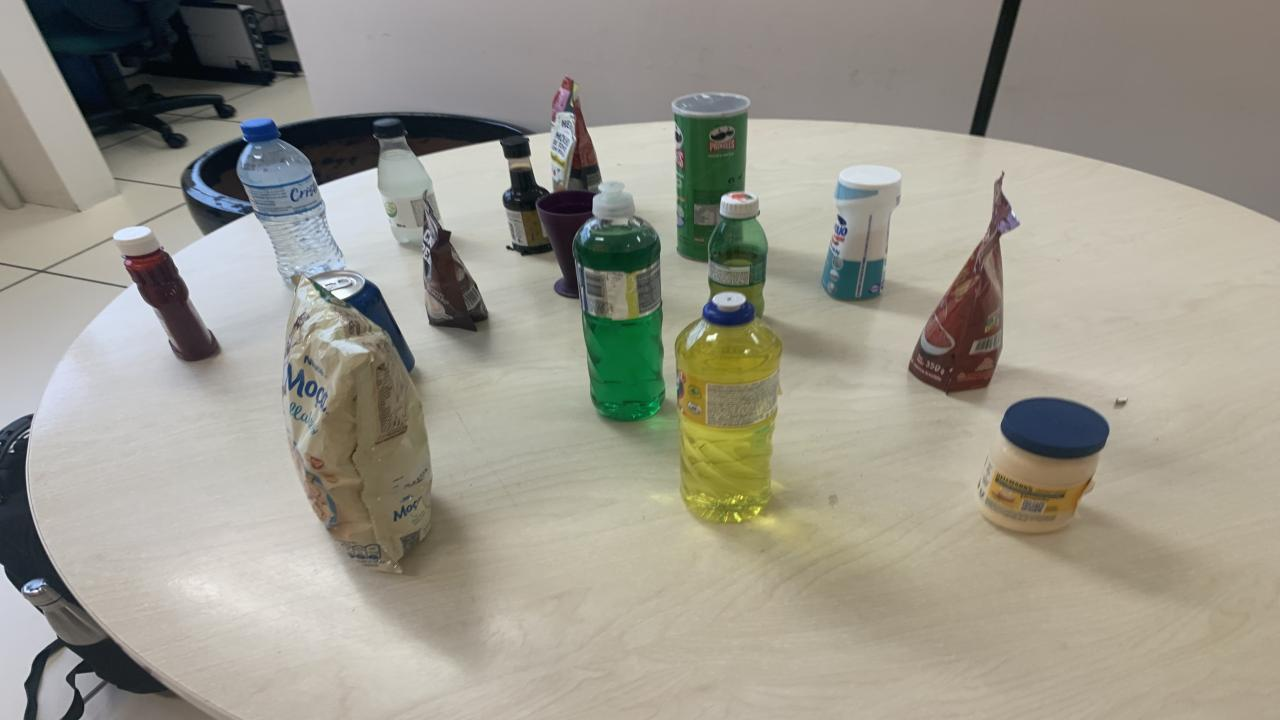Cleaner-Cleanup_Items: (822, 165, 902, 300)
Coffee-Pantry_Items: (422, 210, 488, 330)
Detergent-Cleanup_Items: (675, 292, 782, 523), (572, 182, 665, 422)
English_Sauce-Pantry_Items: (500, 135, 552, 255)
Flakes-Snacks: (282, 278, 432, 572)
Guarana-Drinks: (708, 191, 768, 315)
Ketchup-Pantry_Items: (112, 227, 220, 362)
Mayonnaise-Pantry_Items: (978, 398, 1110, 532)
Pringles-Snacks: (672, 92, 750, 261)
Soda-Drinks: (372, 118, 438, 244)
Tomato_Sauce-Pantry_Items: (908, 176, 1020, 392), (550, 77, 602, 191)
Tonic-Drinks: (312, 270, 415, 371)
Water_Bottle-Drinks: (238, 118, 345, 287)
